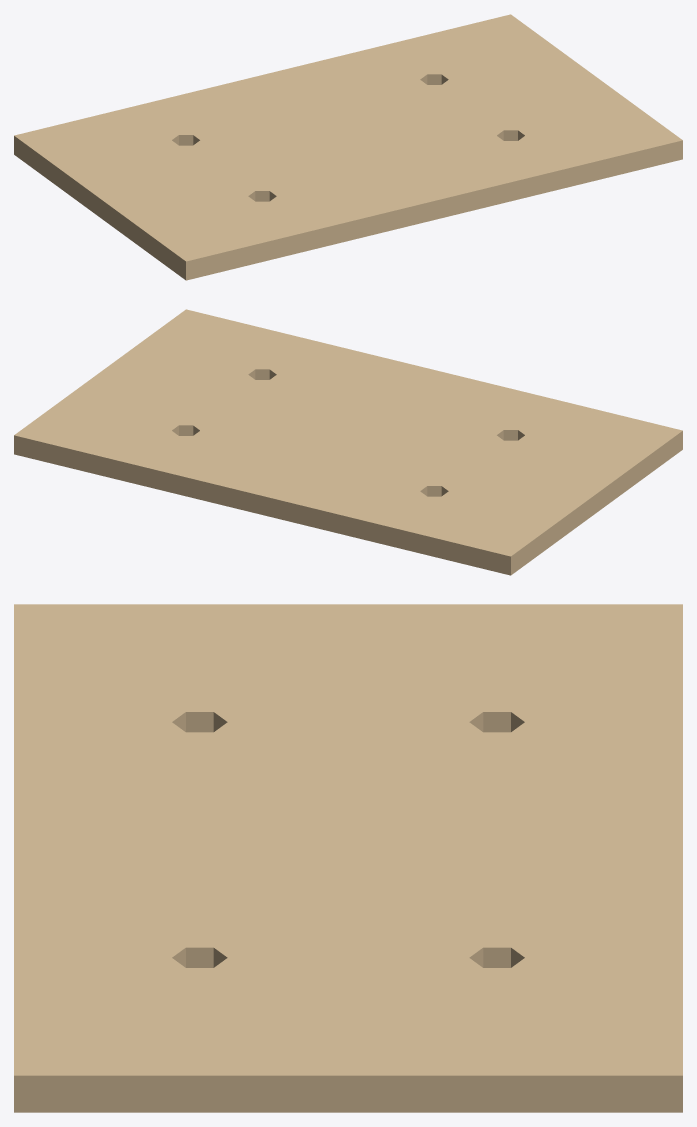
Rendered from prop-pegboard-blank-pb1.fbx.
The picture shows the model from 3 angles, top to bottom: view 1: azimuth 30°, elevation 25°; view 2: azimuth 150°, elevation 25°; view 3: azimuth 270°, elevation 25°; orthographic projection. The views are drawn at different scales.
Parts seen in each view (by area): view 1: prop-pegboard-blank-pb1; view 2: prop-pegboard-blank-pb1; view 3: prop-pegboard-blank-pb1.
Part boxes in pixels (x1,y1,x2,y2): prop-pegboard-blank-pb1: (14, 14, 682, 280); prop-pegboard-blank-pb1: (14, 309, 682, 575); prop-pegboard-blank-pb1: (14, 604, 682, 1112).
Size of the model in its own units: 0.6 by 0.022 by 0.36.
